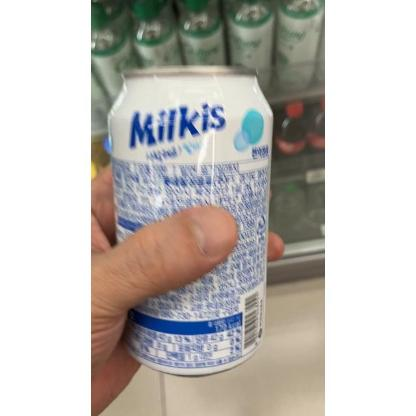Can: (107, 66, 274, 378)
